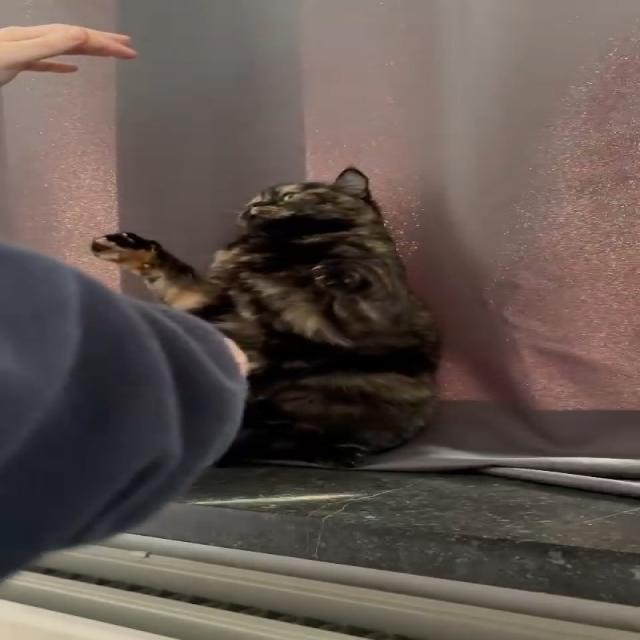authorized: (89, 165, 444, 469)
